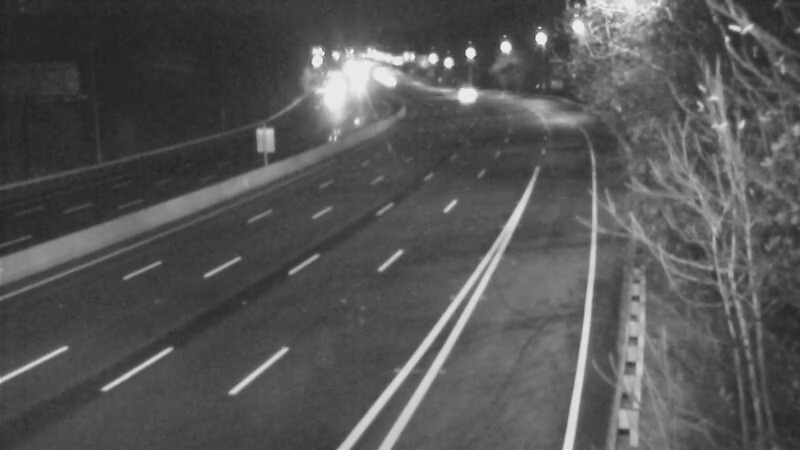vehicle: (440, 70, 490, 120)
